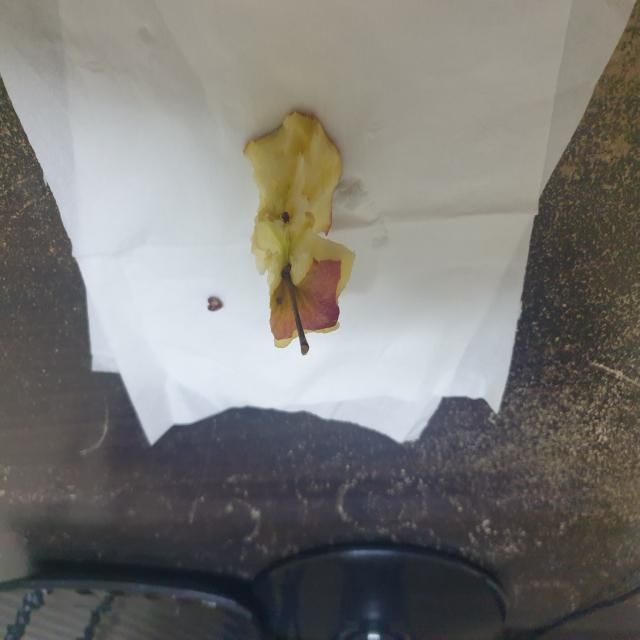apple: (238, 104, 362, 364)
